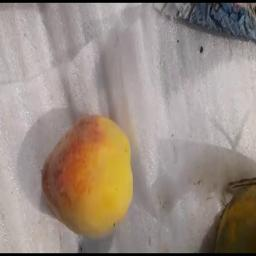Peach Semifresh: (33, 107, 150, 243)
